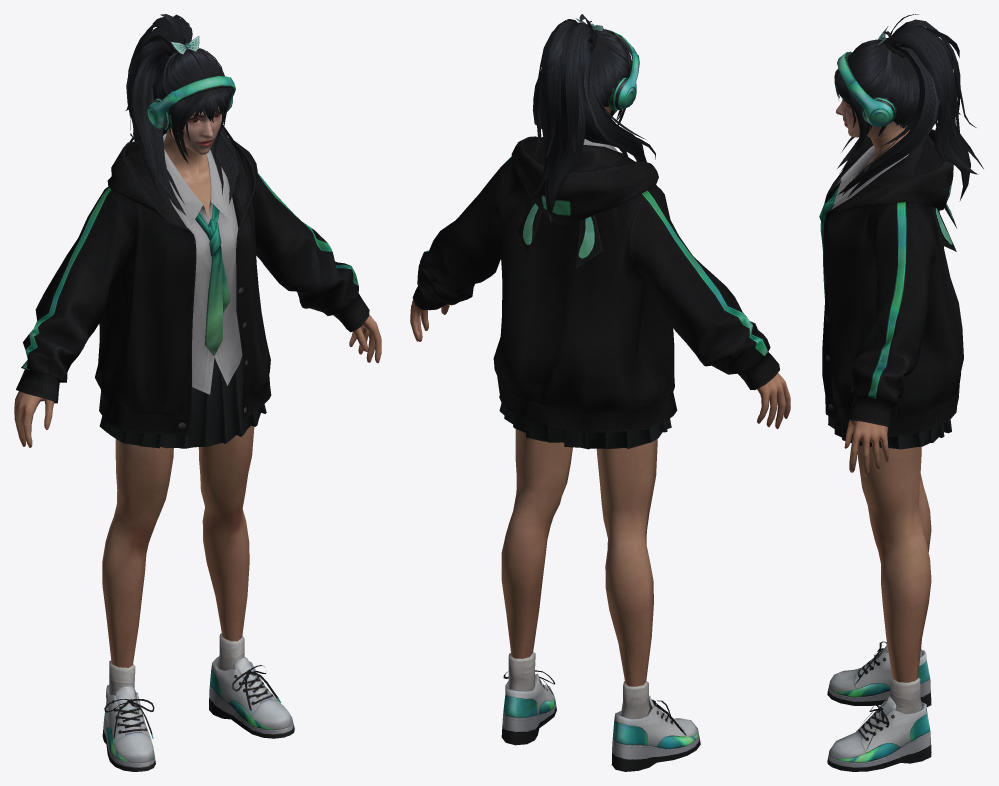
File: after_school_bundle_free_fire.glb
3 views of the same model, side by side, from view 1: azimuth 30°, elevation 25°; view 2: azimuth 150°, elevation 25°; view 3: azimuth 270°, elevation 25° (orthographic). The views are drawn at different scales.
Parts seen in each view (by area): view 1: Object_8, Object_3, Object_6, Object_7, Object_4, Object_2, Object_5; view 2: Object_8, Object_3, Object_6, Object_7, Object_4, Object_2; view 3: Object_8, Object_3, Object_6, Object_7, Object_4, Object_2, Object_5.
Part boxes in pixels (x1,y1,x2,y2): Object_8: (16, 133, 369, 435); Object_3: (14, 130, 381, 667); Object_6: (125, 14, 246, 215); Object_7: (102, 656, 294, 771); Object_4: (99, 356, 266, 694); Object_2: (147, 36, 235, 130); Object_5: (168, 106, 222, 154); Object_8: (412, 136, 779, 432); Object_3: (410, 300, 790, 686); Object_6: (531, 14, 655, 223); Object_7: (501, 670, 700, 771); Object_4: (499, 395, 671, 718); Object_2: (575, 18, 639, 110); Object_8: (819, 127, 963, 436); Object_3: (844, 128, 931, 682); Object_6: (834, 14, 983, 201); Object_7: (827, 641, 931, 771); Object_4: (828, 416, 951, 713); Object_2: (837, 26, 906, 126); Object_5: (836, 99, 906, 138).
Bounding box in the file's own units: 103 × 195 × 40.91.
7 materials, 7 textured.
